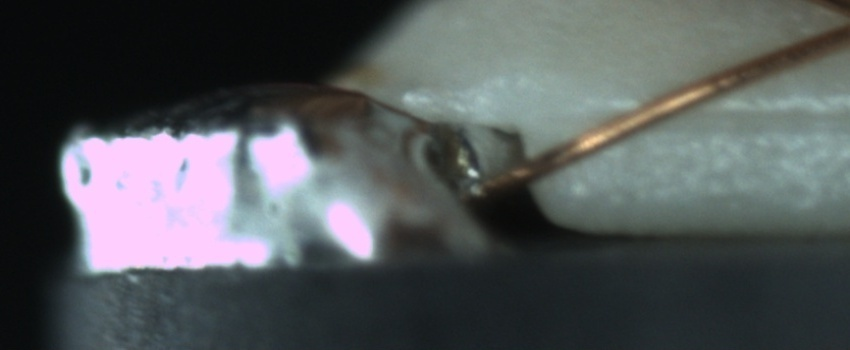DL: (615, 79, 844, 150)
